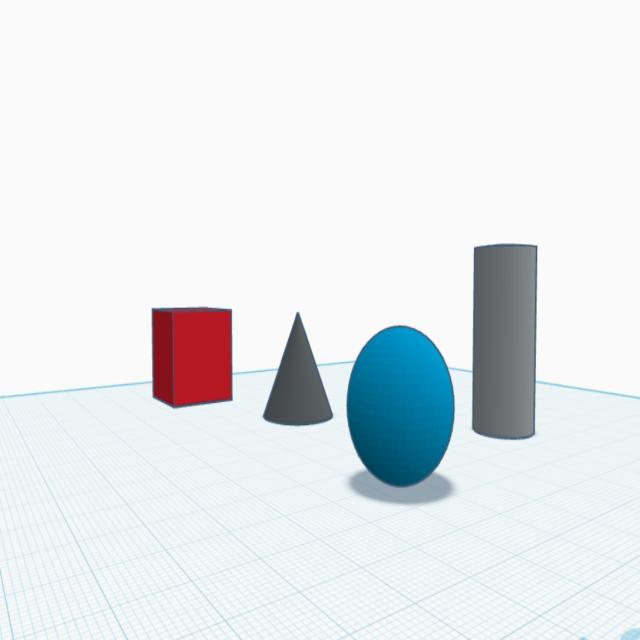cone: (261, 308, 335, 428)
cube: (150, 302, 235, 411)
sphere: (346, 322, 456, 490)
